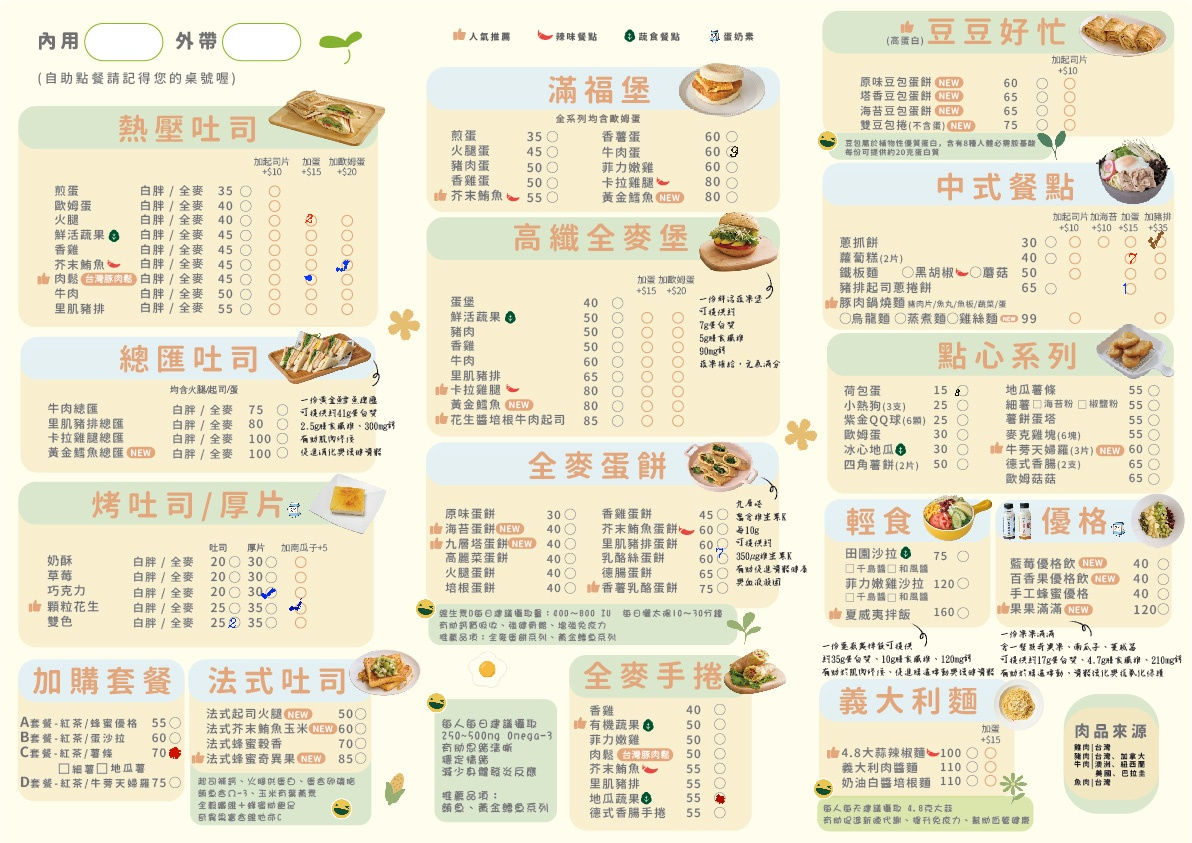marked_circle: (168, 748, 178, 759), (714, 792, 724, 803)
marked_number_1: (1124, 282, 1134, 293)
marked_number_2: (305, 215, 315, 226), (228, 617, 238, 628)
marked_number_3: (956, 386, 966, 397)
marked_number_7: (717, 553, 727, 564), (1125, 253, 1135, 264)
marked_number_9: (726, 147, 736, 158)
marked_tick: (305, 274, 315, 285), (265, 586, 275, 597), (1153, 236, 1163, 247), (341, 260, 351, 271), (294, 603, 304, 614)
